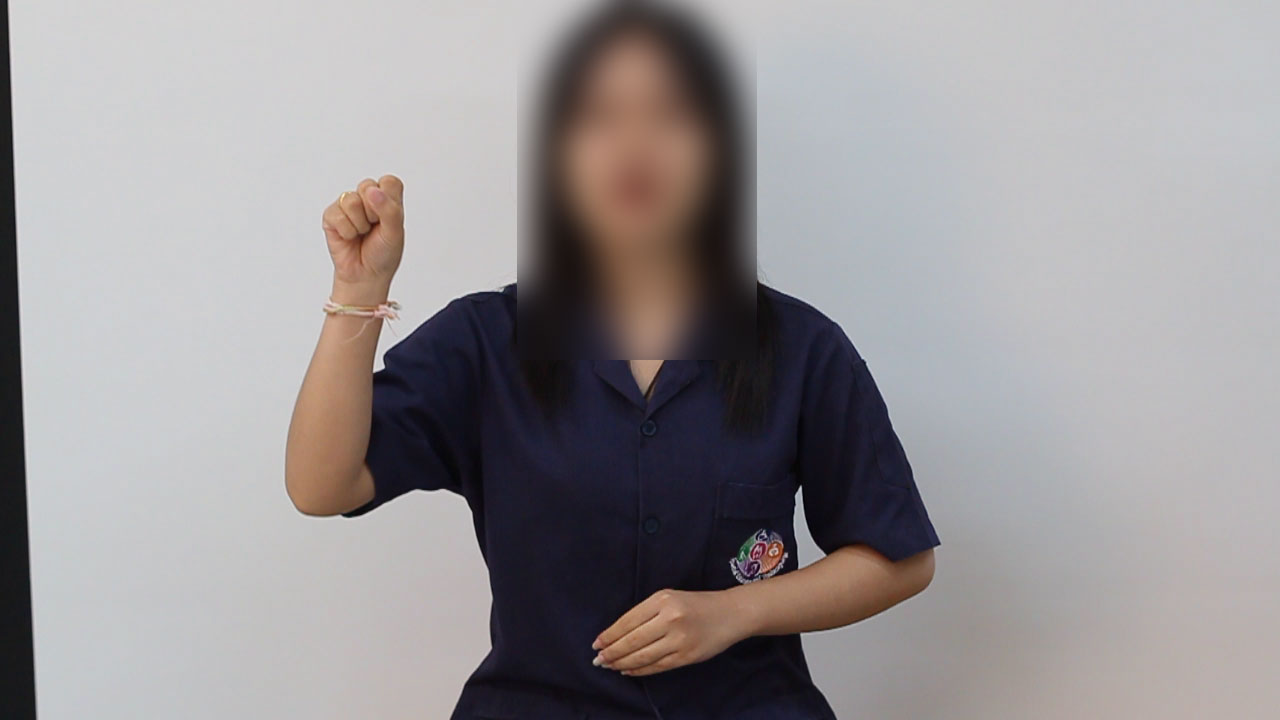sor: (308, 159, 429, 305)
